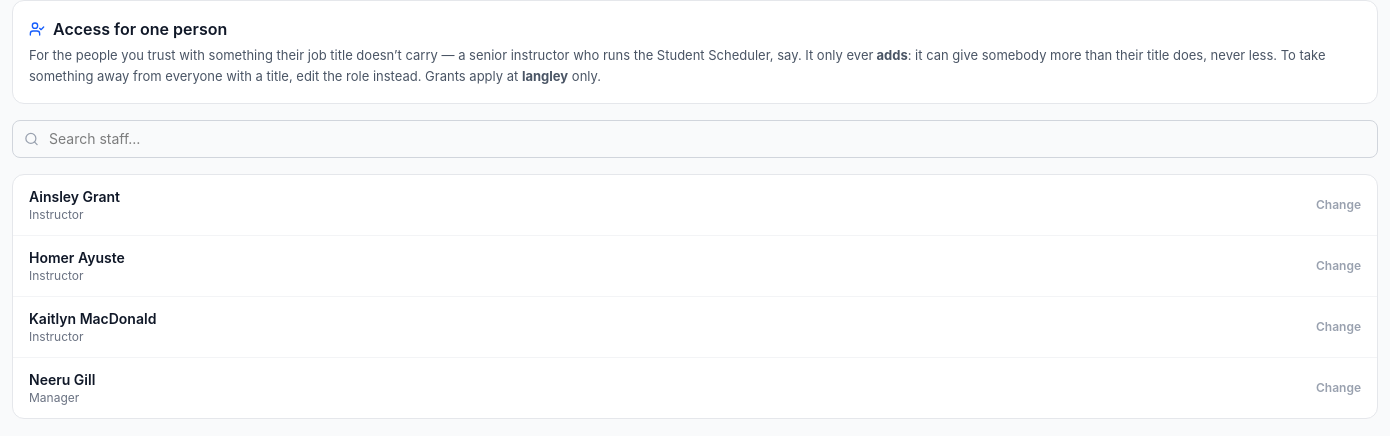
Test: the list › searches
This screenshot has width=1390, height=436.
Type "kait" into the field labelled "Search staff" at [695, 139], box [12, 120, 1378, 158]
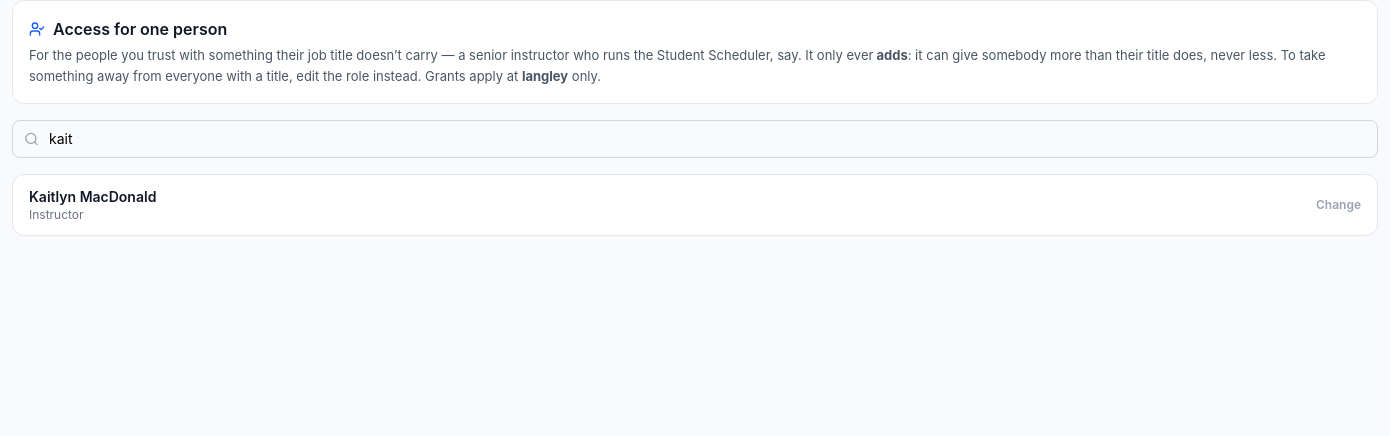
expect the text "Kaitlyn MacDonald" is shown: met, box [29, 188, 156, 205]
expect the button "Homer Ayuste" is gone: met
